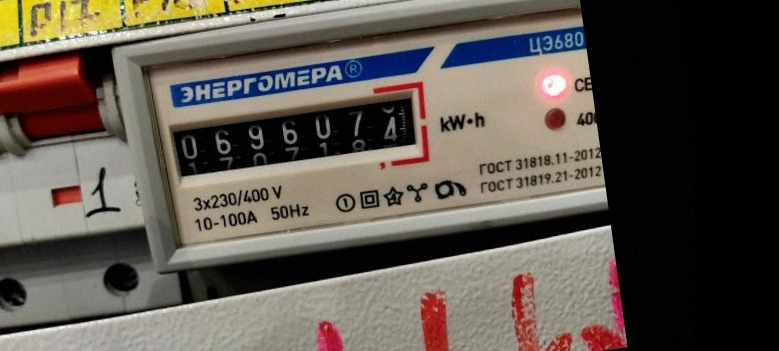0: (176, 130, 201, 161), (312, 109, 334, 140), (212, 126, 232, 154)
4: (379, 113, 400, 143)
6: (277, 114, 299, 146)
7: (345, 106, 366, 137)
9: (245, 120, 266, 151)
screen: (153, 76, 435, 196)
